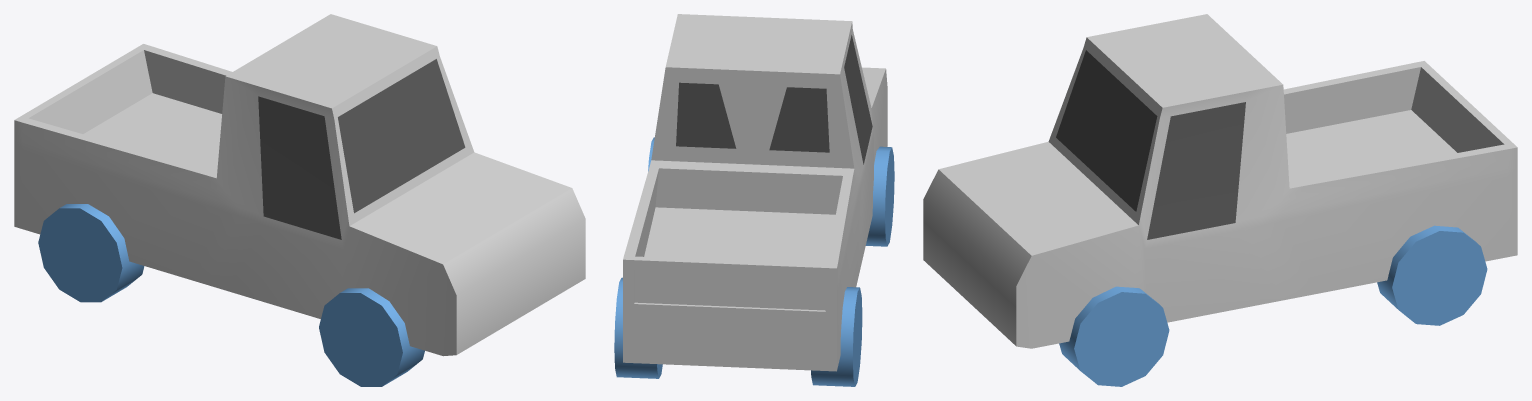
The model's file is Truck.fbx.
3 views of the same model, side by side, from view 1: azimuth 30°, elevation 25°; view 2: azimuth 150°, elevation 25°; view 3: azimuth 270°, elevation 25° (orthographic). The views are drawn at different scales.
Visible parts, largest first — view 1: Truck; view 2: Truck; view 3: Truck.
Part boxes in pixels (box(x1,y1,x2,y2)): Truck: box(14, 14, 585, 386); Truck: box(614, 14, 894, 386); Truck: box(923, 14, 1517, 386).
Bounding box in the file's own units: 385 × 251 × 528.
